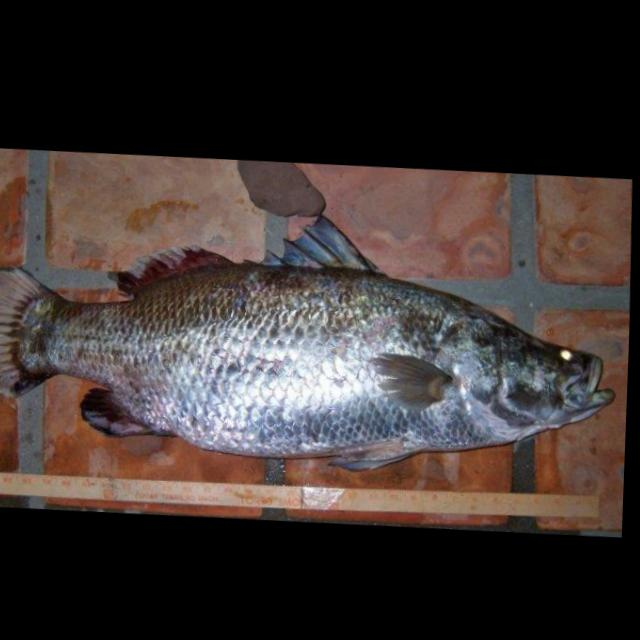Seabass: (0, 183, 624, 492)
